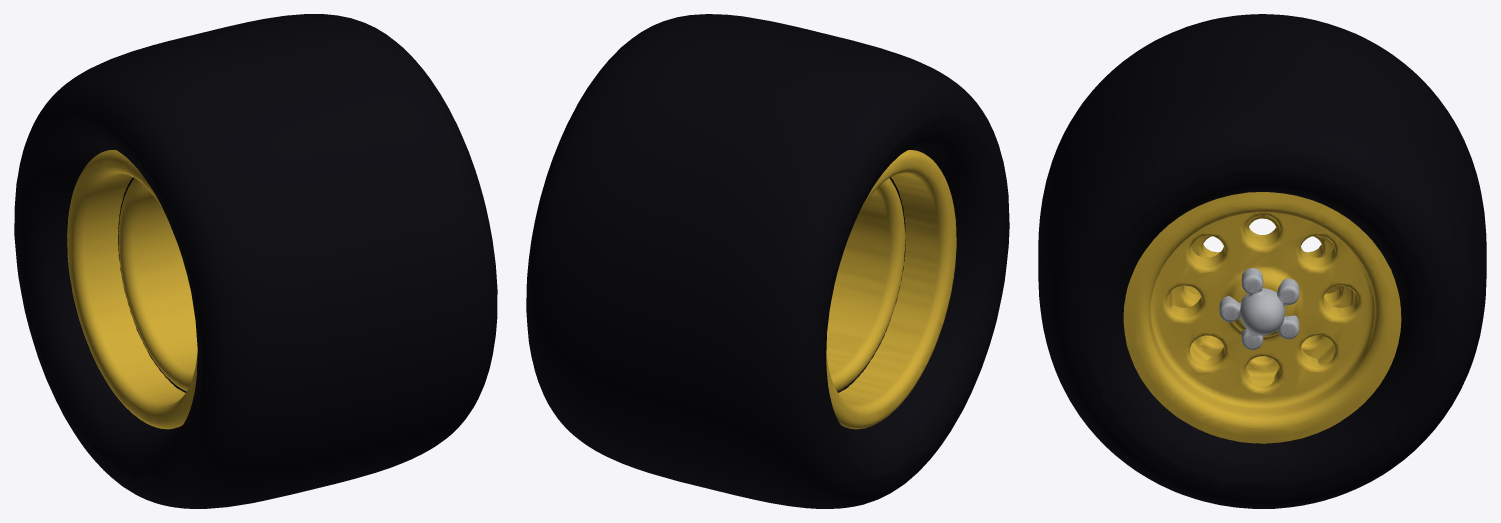
The model's file is slick.glb.
The picture shows the model from 3 angles, left to right: view 1: azimuth 30°, elevation 25°; view 2: azimuth 150°, elevation 25°; view 3: azimuth 270°, elevation 25°; orthographic projection. The views are drawn at different scales.
Parts seen in each view (by area): view 1: wheel_rear, wheel_front; view 2: wheel_rear, wheel_front; view 3: wheel_rear, wheel_front.
Part boxes in pixels (bbox=[...]): wheel_rear: bbox=[14, 14, 497, 508]; wheel_front: bbox=[118, 177, 197, 392]; wheel_rear: bbox=[526, 14, 1009, 508]; wheel_front: bbox=[826, 177, 905, 392]; wheel_rear: bbox=[1038, 14, 1486, 508]; wheel_front: bbox=[1167, 214, 1357, 386].
Size of the model in its own units: 0.3286 by 0.46 by 0.46.
